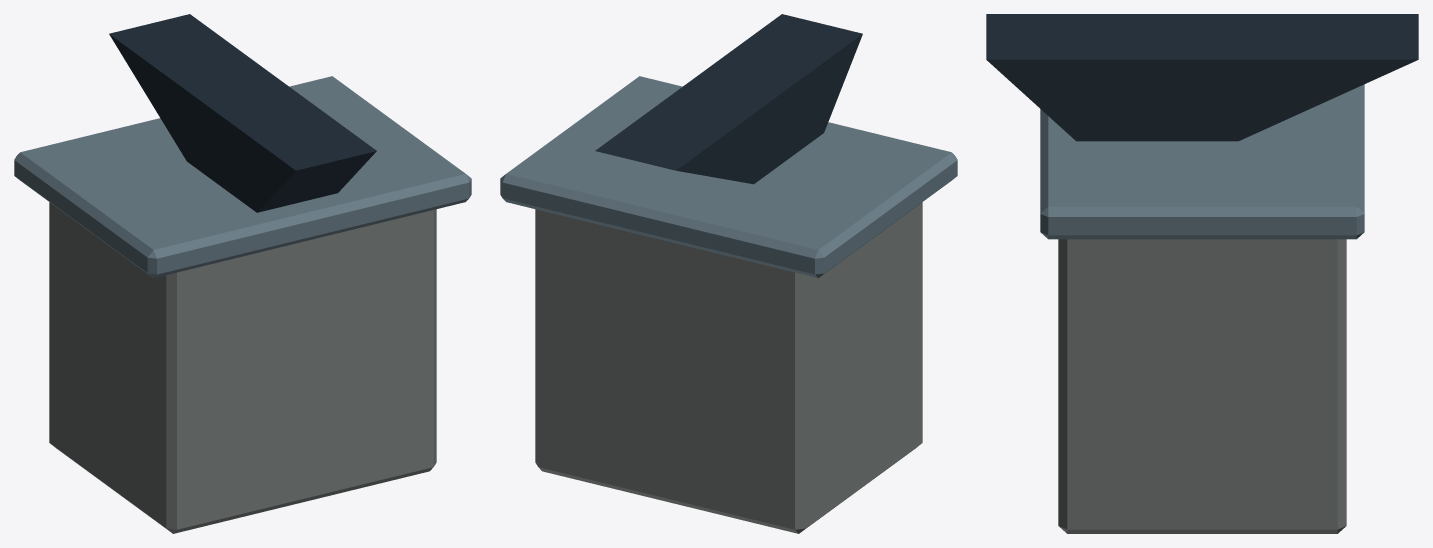
The model's file is objects-anvil.lod0.glb.
The picture shows the model from 3 angles, left to right: view 1: azimuth 30°, elevation 25°; view 2: azimuth 150°, elevation 25°; view 3: azimuth 270°, elevation 25°; orthographic projection. The views are drawn at different scales.
Visible parts, largest first — view 1: objects-anvil__body; view 2: objects-anvil__body; view 3: objects-anvil__body.
Boxes of the visible parts, left/top/right/bottom form: objects-anvil__body: left=14, top=14, right=471, bottom=533; objects-anvil__body: left=500, top=14, right=957, bottom=533; objects-anvil__body: left=986, top=14, right=1418, bottom=533.
Bounding box in the file's own units: 1.2 × 1.3 × 1.2.
